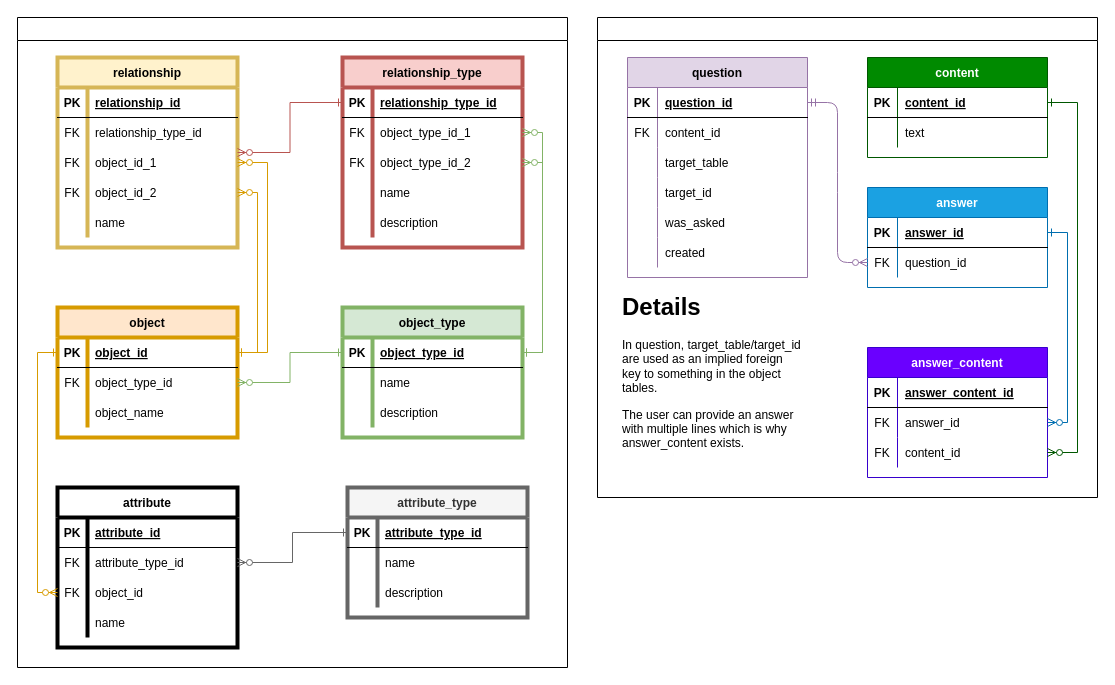
Image size: 1115x685. Some labels were removed from this diagram. The box of each missing label's shape, as (x1, y1, x2, y2) in pixels:
For storing the results of the interview process.: (16, 16, 568, 668)
For storing the results of the interviewing process.: (596, 16, 1098, 498)
